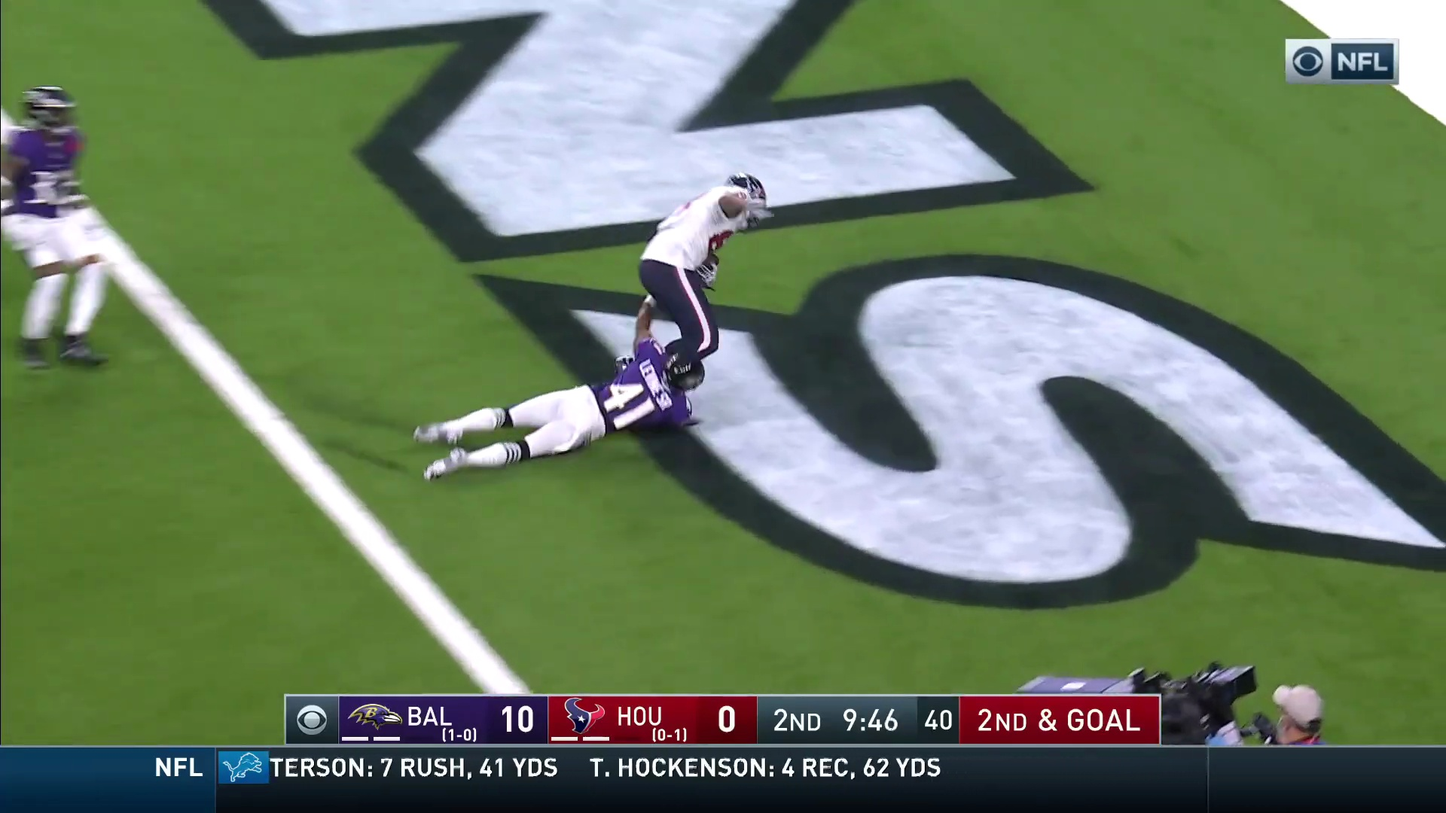Player: (2, 80, 86, 348), (6, 192, 119, 365)
